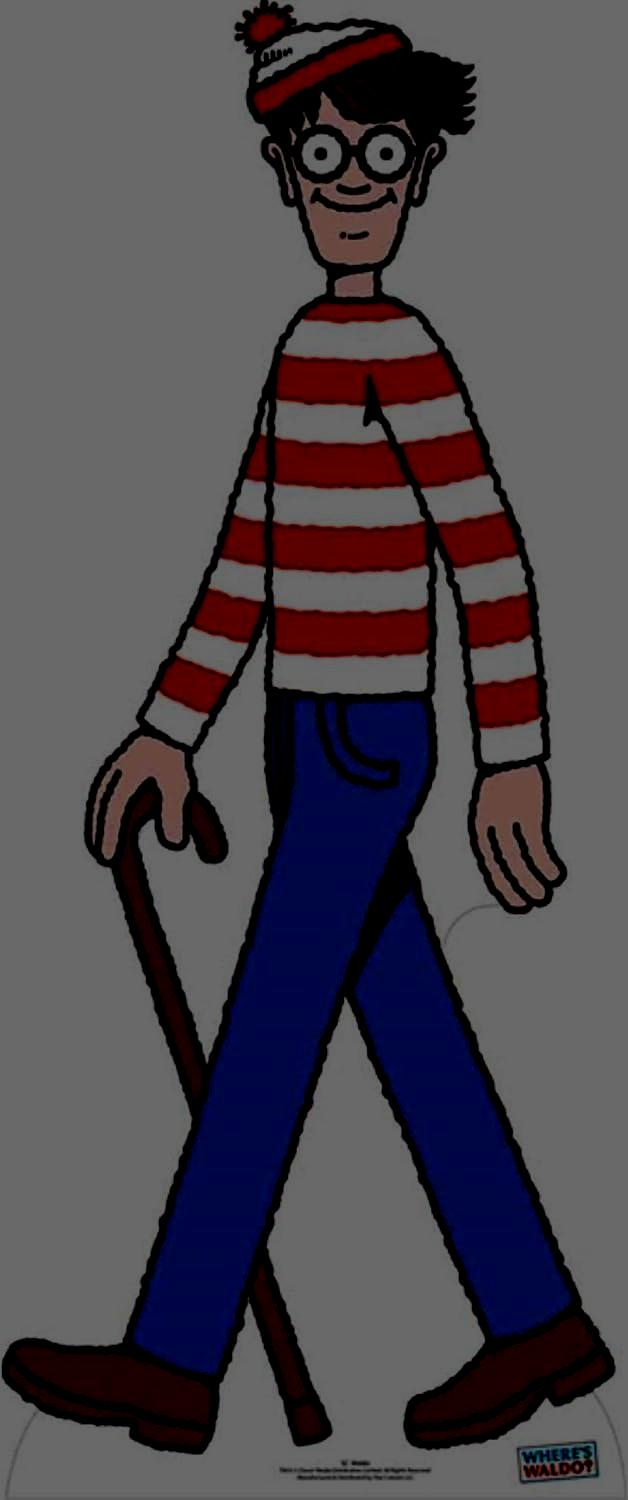waldos: (2, 3, 617, 1453)
